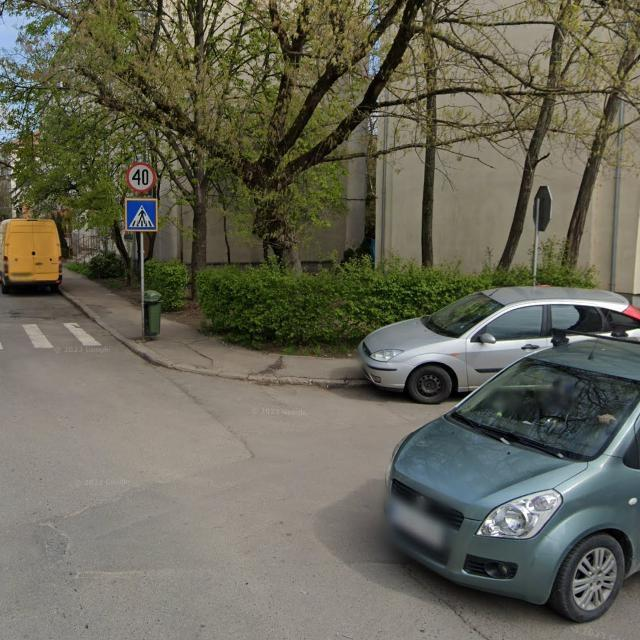forb_speed_over_40: (126, 162, 155, 192)
info_crosswalk: (125, 197, 158, 232)
